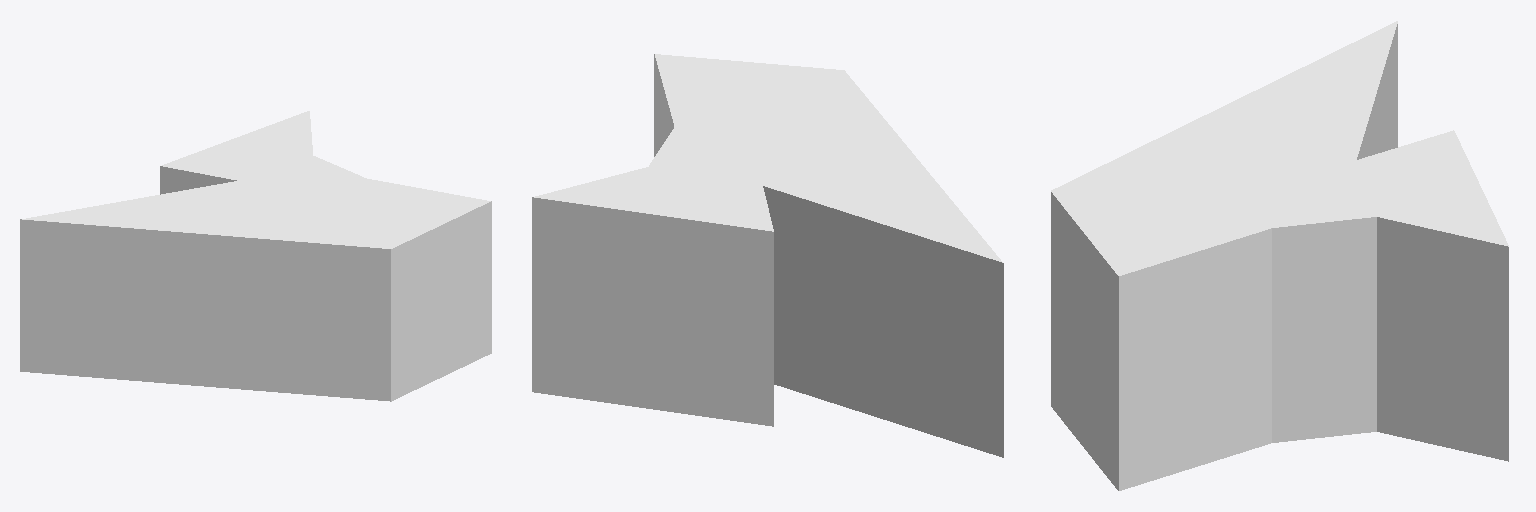
The robot description file, URDF, robot "0":
<?xml version="1.0" ?>
<robot name="0">
  <link concave="yes" name="baseLink">
    <contact>
    	<friction_anchor/>
    	   <lateral_friction value="1.0"/>
    </contact>
    <inertial>
      <origin rpy="0 0 0" xyz="0 0 0"/>
       <!-- mass controls penetration -->
       <mass value=".1"/>
       <inertia ixx="1e-4" ixy="0" ixz="0" iyy="1e-4" iyz="0" izz="1e-4"/>
    </inertial>
    <visual>
      <origin rpy="0 0 0" xyz="0 0 0"/>
      <geometry>
        <mesh filename="package://object_datasets/ycb/meshes/4.obj"/>
      </geometry>
       <material name="white">
        <color rgba="1 1 1 1"/>
      </material>
    </visual>
    <collision>
      <origin rpy="0 0 0" xyz="0 0 0"/>
      <geometry>
        <mesh filename="package://object_datasets/ycb/meshes/4.obj"/>
      </geometry>
    </collision>
  </link>
</robot>

--- Render facts (derived) ---
3 views of the same robot in one strip: view 1: azimuth 30°, elevation 25°; view 2: azimuth 150°, elevation 25°; view 3: azimuth 270°, elevation 25° (orthographic).
Model 0 with 1 links and 0 joints (none), rooted at baseLink, posed all joints at 0.
Visible links, largest first — view 1: baseLink; view 2: baseLink; view 3: baseLink.
Link boxes in pixels (x1,y1,x2,y2): baseLink: (20,111,491,401); baseLink: (532,54,1003,457); baseLink: (1051,21,1508,490).
Size in the robot's own frame: 0.1916 by 0.1451 by 0.075 metres.
1 mesh visuals loaded from 1 distinct referenced files (1 OBJ).
